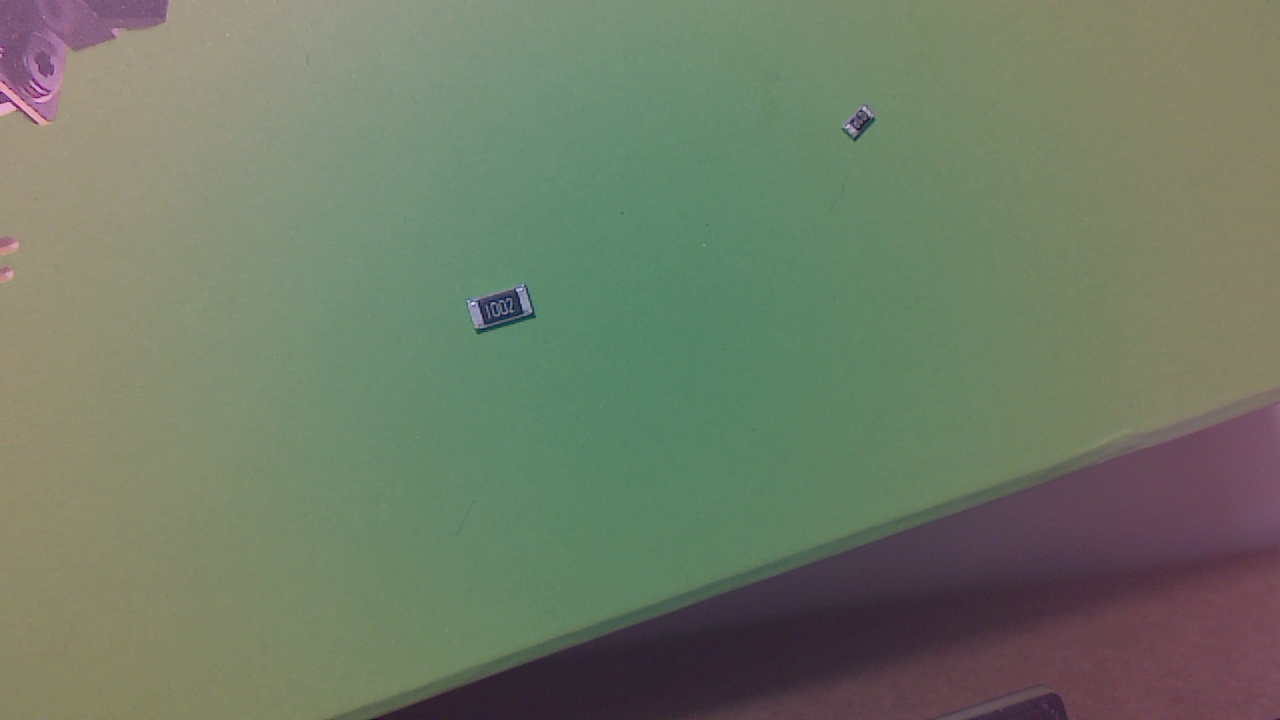Resistor: (473, 291, 545, 347), (846, 106, 883, 147)
